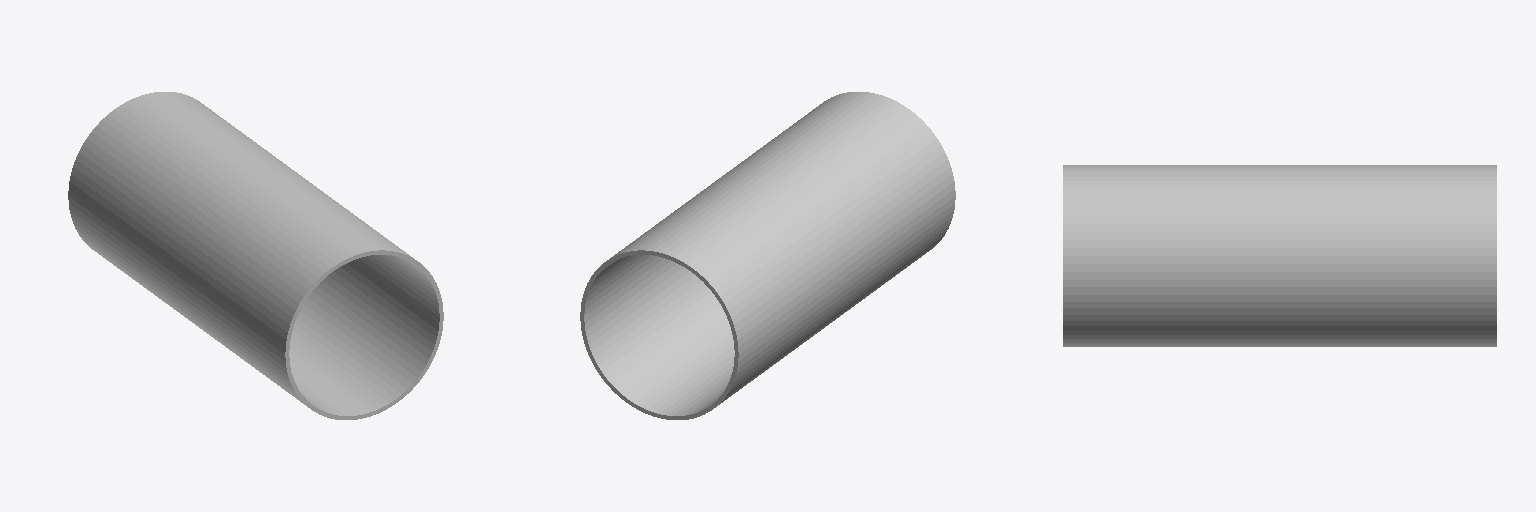
The model's file is Strips_Barrel_passives_l3.obj.
3 renders of one model, left to right at view 1: azimuth 30°, elevation 25°; view 2: azimuth 150°, elevation 25°; view 3: azimuth 270°, elevation 25°, orthographic.
Size of the model in its own units: 1157 by 1157 by 2748.